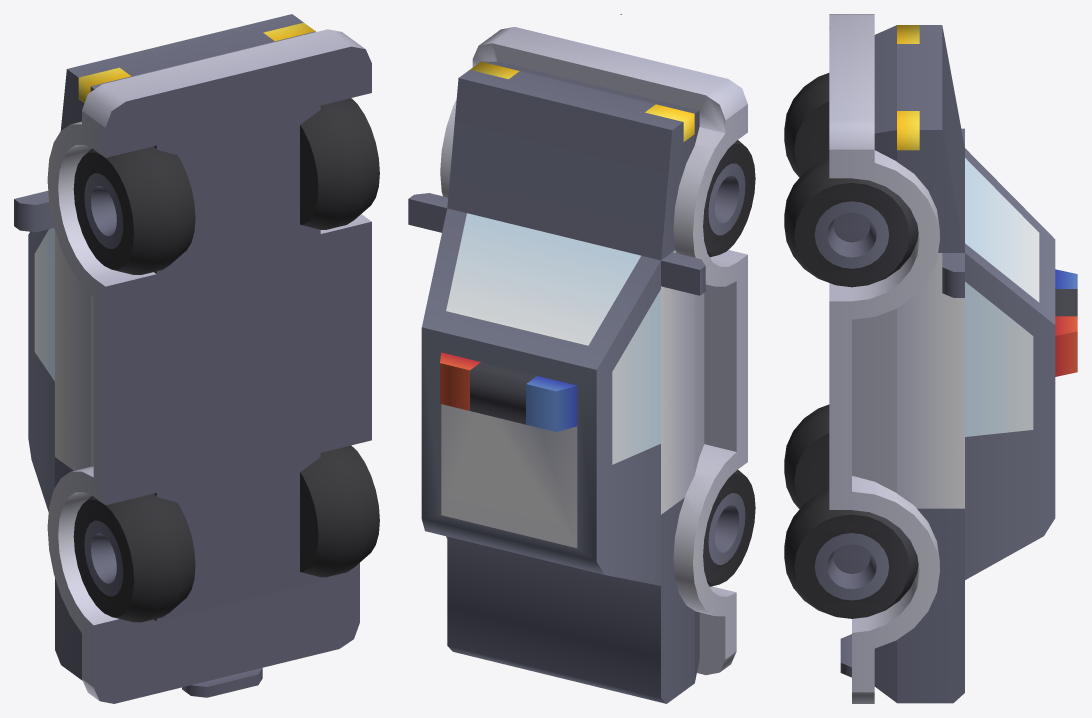
The model's file is kenney-police-car.glb.
The picture shows the model from 3 angles, left to right: view 1: azimuth 30°, elevation 25°; view 2: azimuth 150°, elevation 25°; view 3: azimuth 270°, elevation 25°; orthographic projection. The views are drawn at different scales.
Parts seen in each view (by area): view 1: body, wheel-back-right, wheel-front-right, wheel-back-left, wheel-front-left; view 2: body, wheel-back-right, wheel-front-right; view 3: body, wheel-front-left, wheel-back-left, wheel-back-right, wheel-front-right.
Part boxes in pixels (x1,y1,x2,y2): body: (14,14,371,703); wheel-back-right: (73,493,195,622); wheel-front-right: (73,146,195,274); wheel-back-left: (300,445,379,577); wheel-front-left: (300,98,379,229); body: (408,27,747,703); wheel-back-right: (703,469,755,586); wheel-front-right: (703,140,755,257); body: (829,14,1077,703); wheel-front-left: (784,159,918,287); wheel-back-left: (784,490,918,618); wheel-back-right: (784,404,829,509); wheel-front-right: (784,73,829,177).
Bounding box in the file's own units: 1.5 × 3.09 × 1.3.
1 material, 1 textured.
